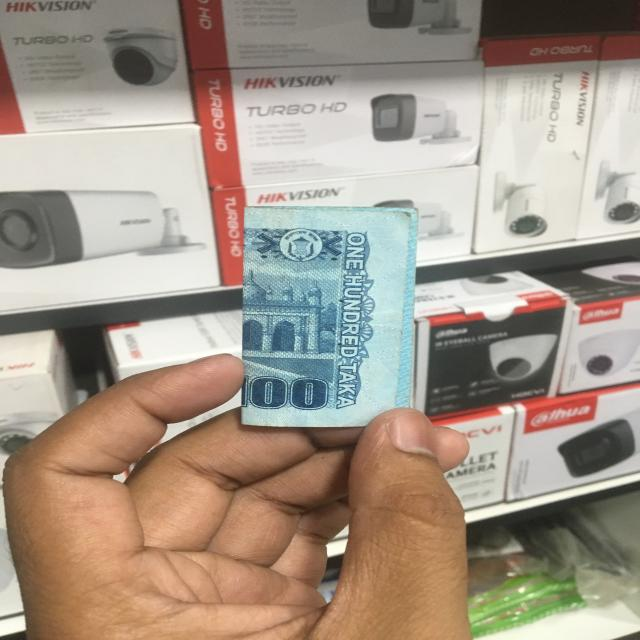Taka: (242, 205, 424, 421)
